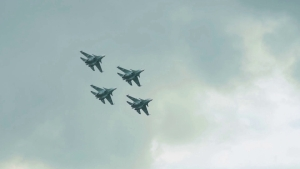flight: (89, 83, 119, 105), (79, 49, 106, 73), (117, 65, 145, 87), (126, 94, 154, 116)
